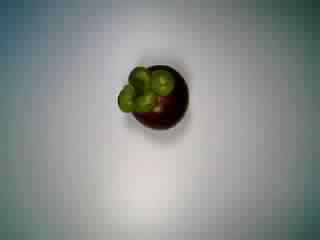mangosteen: (111, 56, 194, 131)
